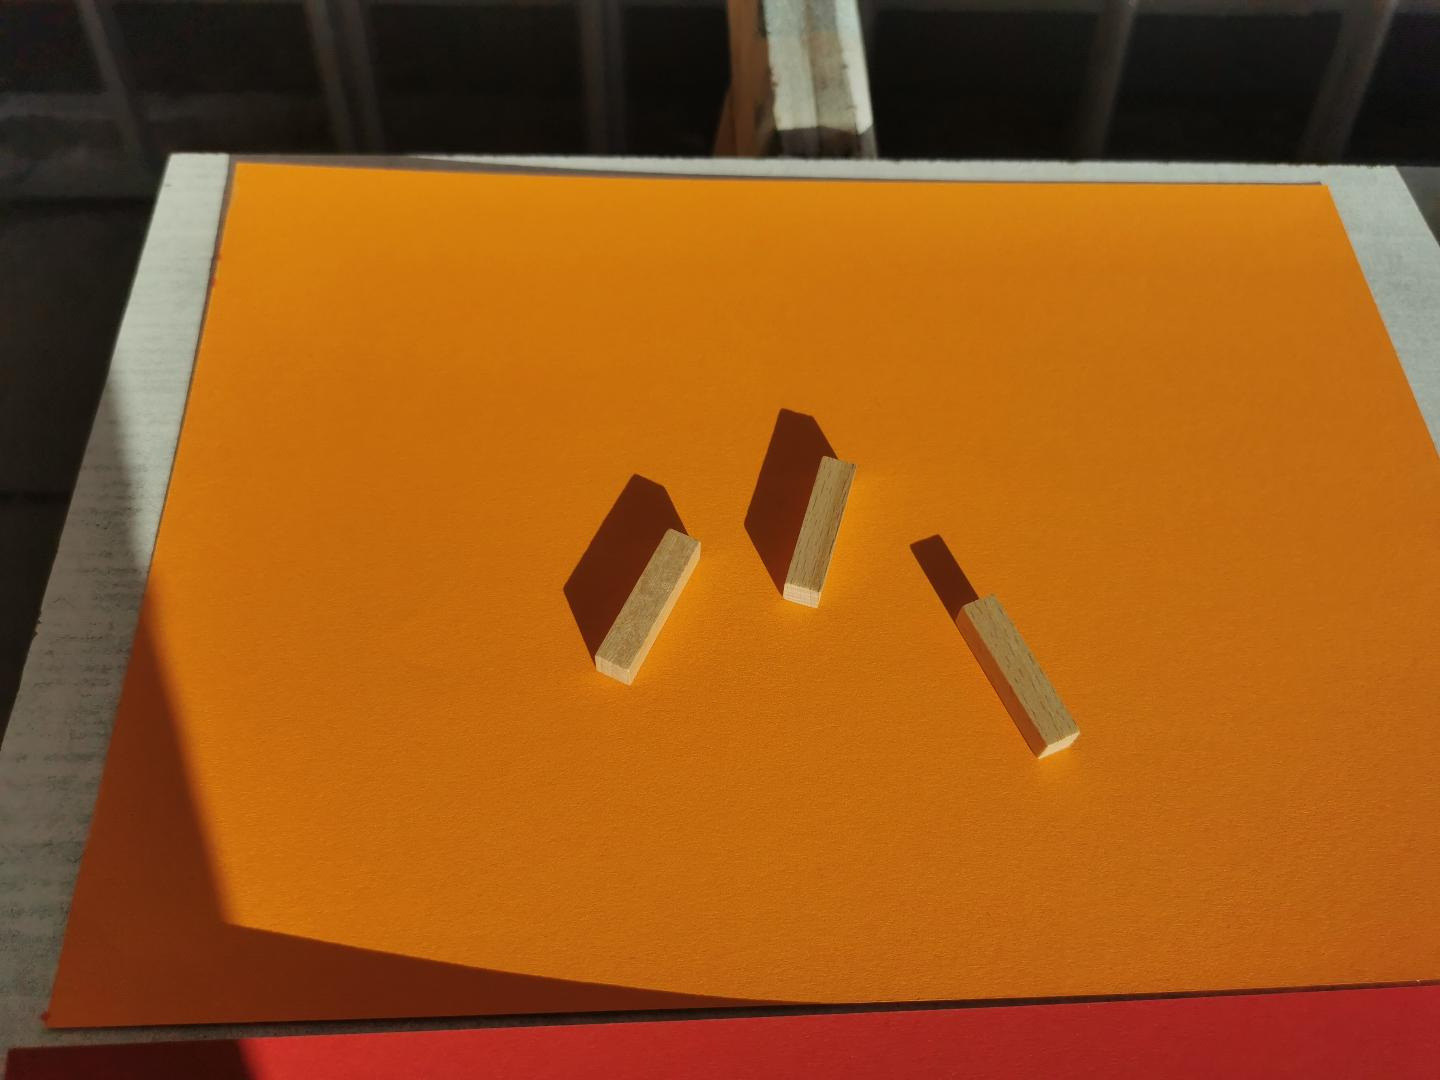jenga: (956, 593, 1079, 757), (593, 529, 701, 683), (785, 456, 855, 608)
